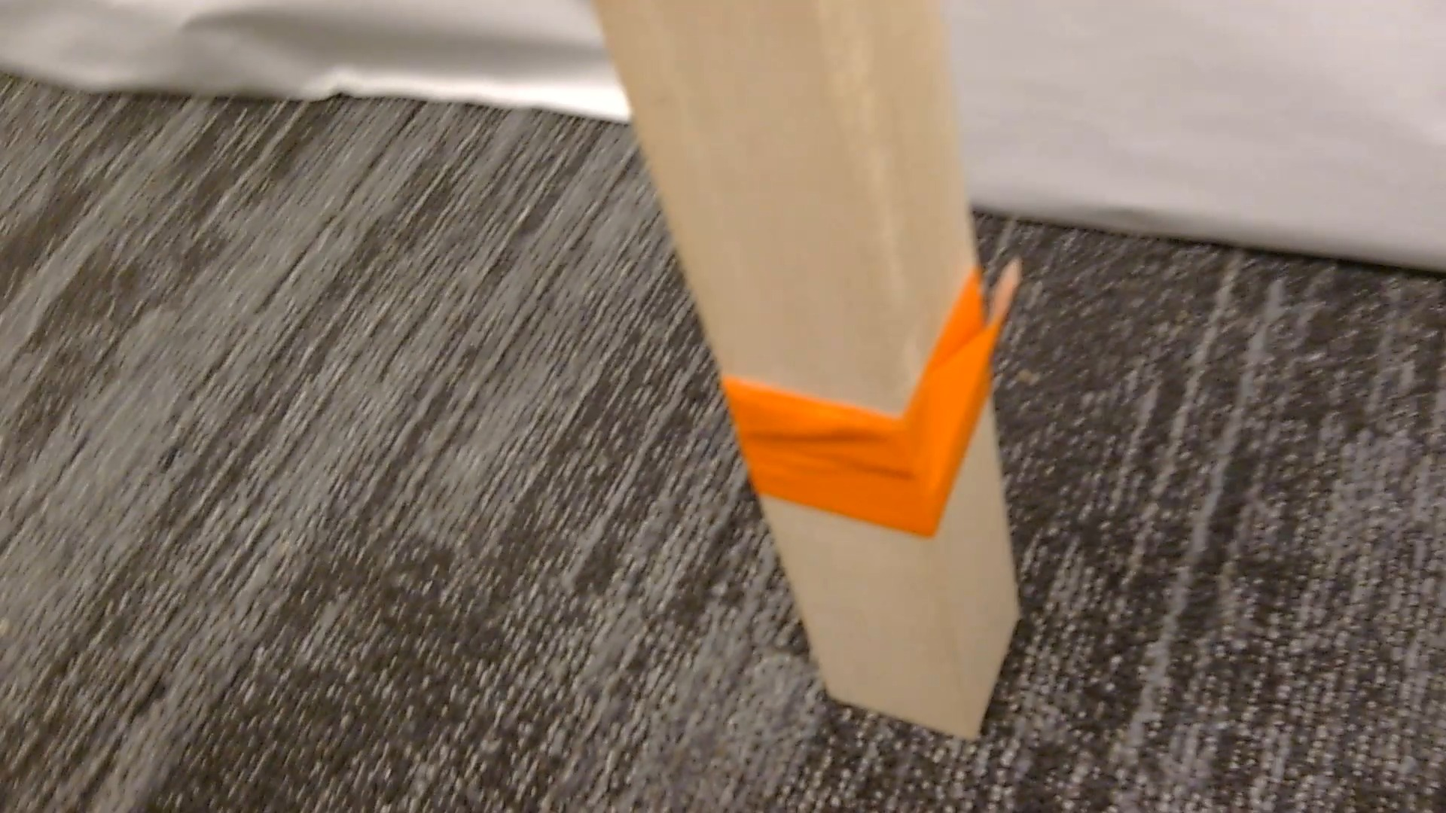Wooden Block: (592, 0, 1019, 737)
